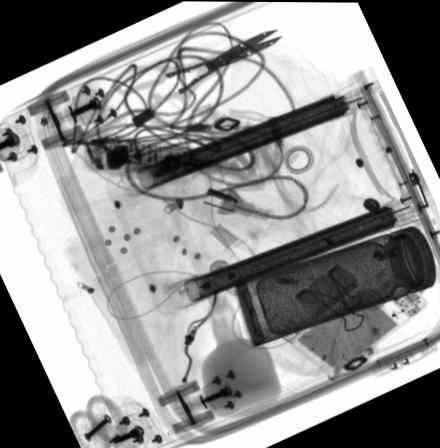Powerbank: (287, 263, 433, 379)
Scissors: (113, 26, 285, 128)
